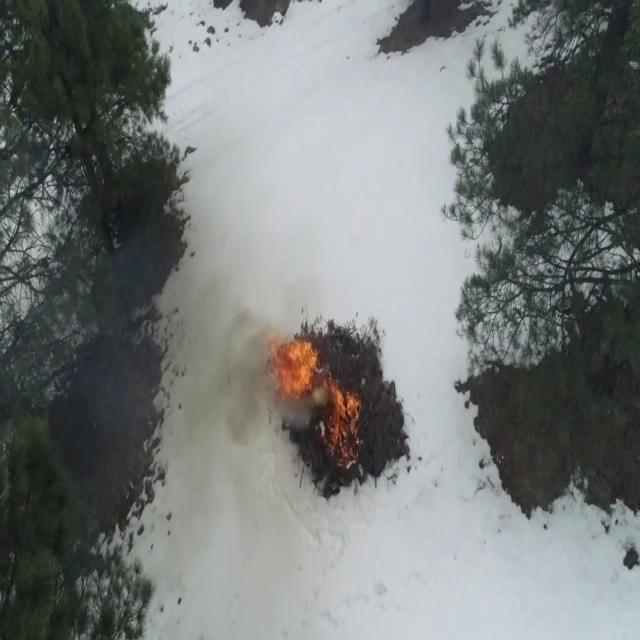fire: (328, 386, 365, 469), (269, 337, 314, 405)
